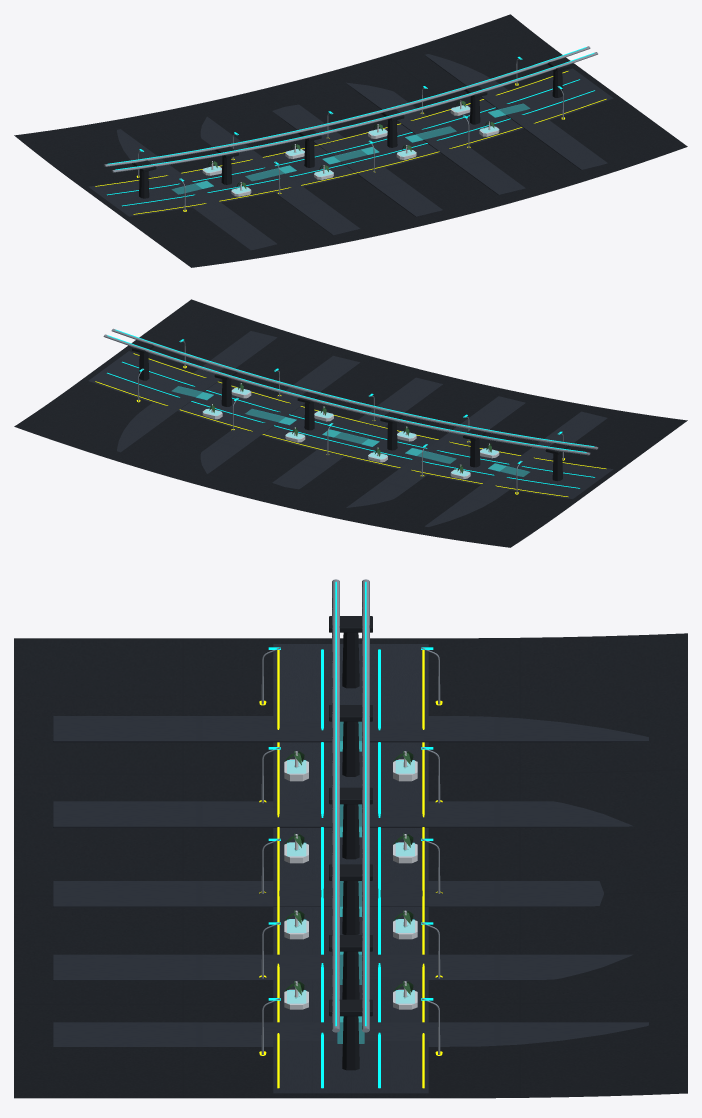
Rendered from district_plaza_terrain_shell.glb.
The picture shows the model from 3 angles, top to bottom: view 1: azimuth 30°, elevation 25°; view 2: azimuth 150°, elevation 25°; view 3: azimuth 270°, elevation 25°; orthographic projection. The views are drawn at different scales.
Parts seen in each view (by area): view 1: Plaza_GunmetalCurvedDeckAndPylons, Plaza_CarbonSlateAvenues, Plaza_BrushedSteelMagLevRailsAndLightMasts, Plaza_CyanGuidewayAndInductionStrips, Plaza_TranslucentHydroCanalAndBasins, Plaza_AerospaceWhitePlanterIslands, Plaza_AmberSafetyPerimeterStrips; view 2: Plaza_GunmetalCurvedDeckAndPylons, Plaza_CarbonSlateAvenues, Plaza_BrushedSteelMagLevRailsAndLightMasts, Plaza_CyanGuidewayAndInductionStrips, Plaza_TranslucentHydroCanalAndBasins, Plaza_AerospaceWhitePlanterIslands, Plaza_AmberSafetyPerimeterStrips; view 3: Plaza_GunmetalCurvedDeckAndPylons, Plaza_CarbonSlateAvenues, Plaza_BrushedSteelMagLevRailsAndLightMasts, Plaza_CyanGuidewayAndInductionStrips, Plaza_AerospaceWhitePlanterIslands, Plaza_TranslucentHydroCanalAndBasins, Plaza_AmberSafetyPerimeterStrips, Plaza_BotanicalGreeneryAndTrees.
Boxes of the visible parts, <box> form: Plaza_GunmetalCurvedDeckAndPylons: <box>14,14,687,267</box>; Plaza_CarbonSlateAvenues: <box>88,54,613,250</box>; Plaza_BrushedSteelMagLevRailsAndLightMasts: <box>103,46,597,211</box>; Plaza_CyanGuidewayAndInductionStrips: <box>107,47,594,206</box>; Plaza_TranslucentHydroCanalAndBasins: <box>172,103,529,194</box>; Plaza_AerospaceWhitePlanterIslands: <box>202,100,499,196</box>; Plaza_AmberSafetyPerimeterStrips: <box>95,71,606,214</box>; Plaza_GunmetalCurvedDeckAndPylons: <box>14,299,687,547</box>; Plaza_CarbonSlateAvenues: <box>88,331,613,526</box>; Plaza_BrushedSteelMagLevRailsAndLightMasts: <box>103,328,598,493</box>; Plaza_CyanGuidewayAndInductionStrips: <box>107,329,594,488</box>; Plaza_TranslucentHydroCanalAndBasins: <box>172,386,529,476</box>; Plaza_AerospaceWhitePlanterIslands: <box>202,383,499,479</box>; Plaza_AmberSafetyPerimeterStrips: <box>95,353,606,496</box>; Plaza_GunmetalCurvedDeckAndPylons: <box>14,616,687,1098</box>; Plaza_CarbonSlateAvenues: <box>53,644,648,1093</box>; Plaza_BrushedSteelMagLevRailsAndLightMasts: <box>261,579,440,1054</box>; Plaza_CyanGuidewayAndInductionStrips: <box>268,581,433,1088</box>; Plaza_AerospaceWhitePlanterIslands: <box>284,751,417,1009</box>; Plaza_TranslucentHydroCanalAndBasins: <box>287,722,414,1043</box>; Plaza_AmberSafetyPerimeterStrips: <box>259,650,442,1088</box>; Plaza_BotanicalGreeneryAndTrees: <box>283,751,413,996</box>.
Bounding box in the file's own units: 84 × 8.28 × 52.
8 materials, 8 textured.
